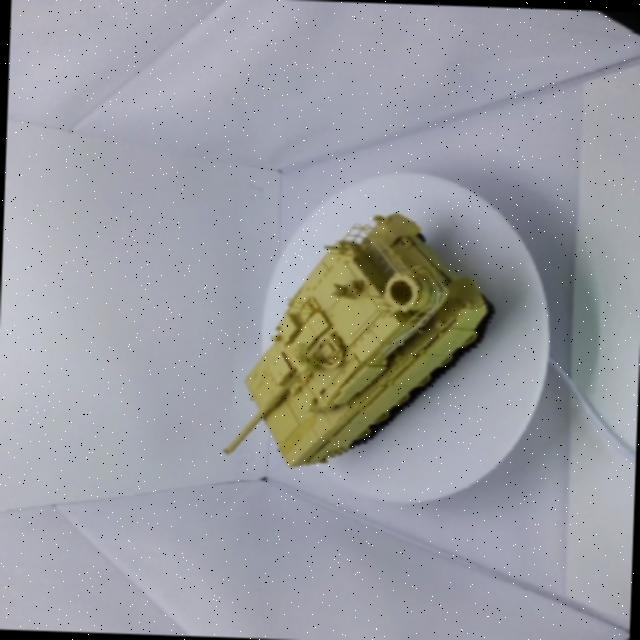korea tank: (193, 196, 509, 503)
